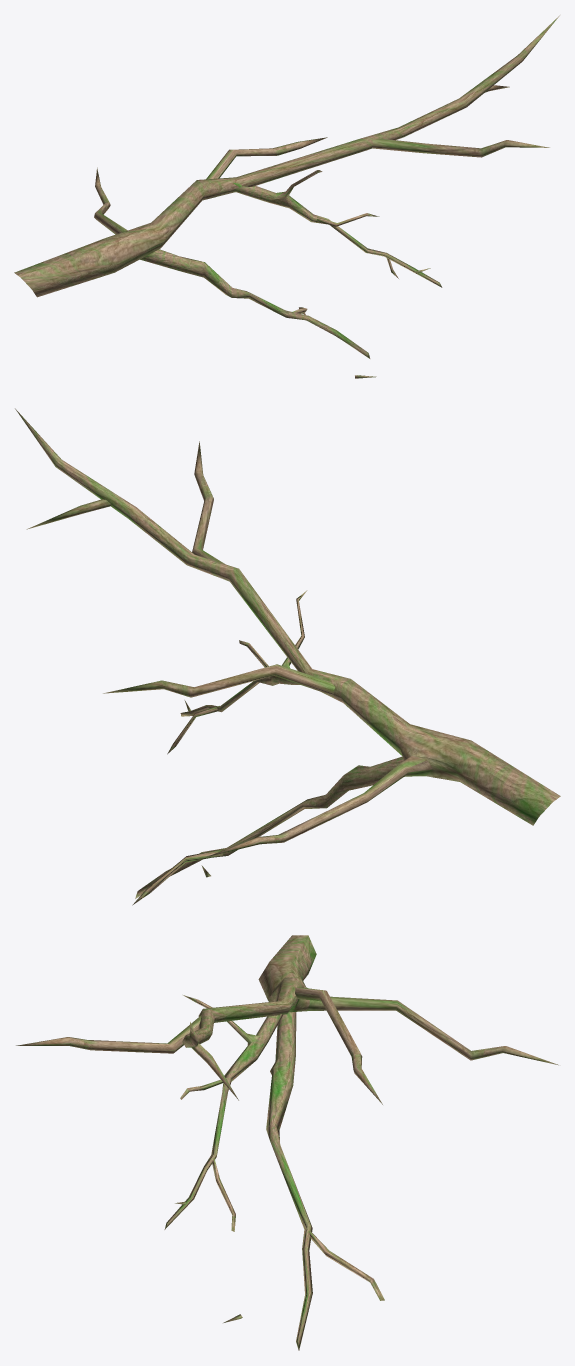
File: stklib_deadBranch_a.glb
3 views of the same model, one above another, from view 1: azimuth 30°, elevation 25°; view 2: azimuth 150°, elevation 25°; view 3: azimuth 270°, elevation 25° (orthographic). The views are drawn at different scales.
Parts seen in each view (by area): view 1: trees_bark_001_col.jpg__; view 2: trees_bark_001_col.jpg__; view 3: trees_bark_001_col.jpg__.
Boxes of the visible parts, <box> form: trees_bark_001_col.jpg__: <box>14,15,559,378</box>; trees_bark_001_col.jpg__: <box>15,408,560,905</box>; trees_bark_001_col.jpg__: <box>16,935,558,1350</box>.
Bounding box in the file's own units: 134 × 88.22 × 105.
1 material, 1 textured.
